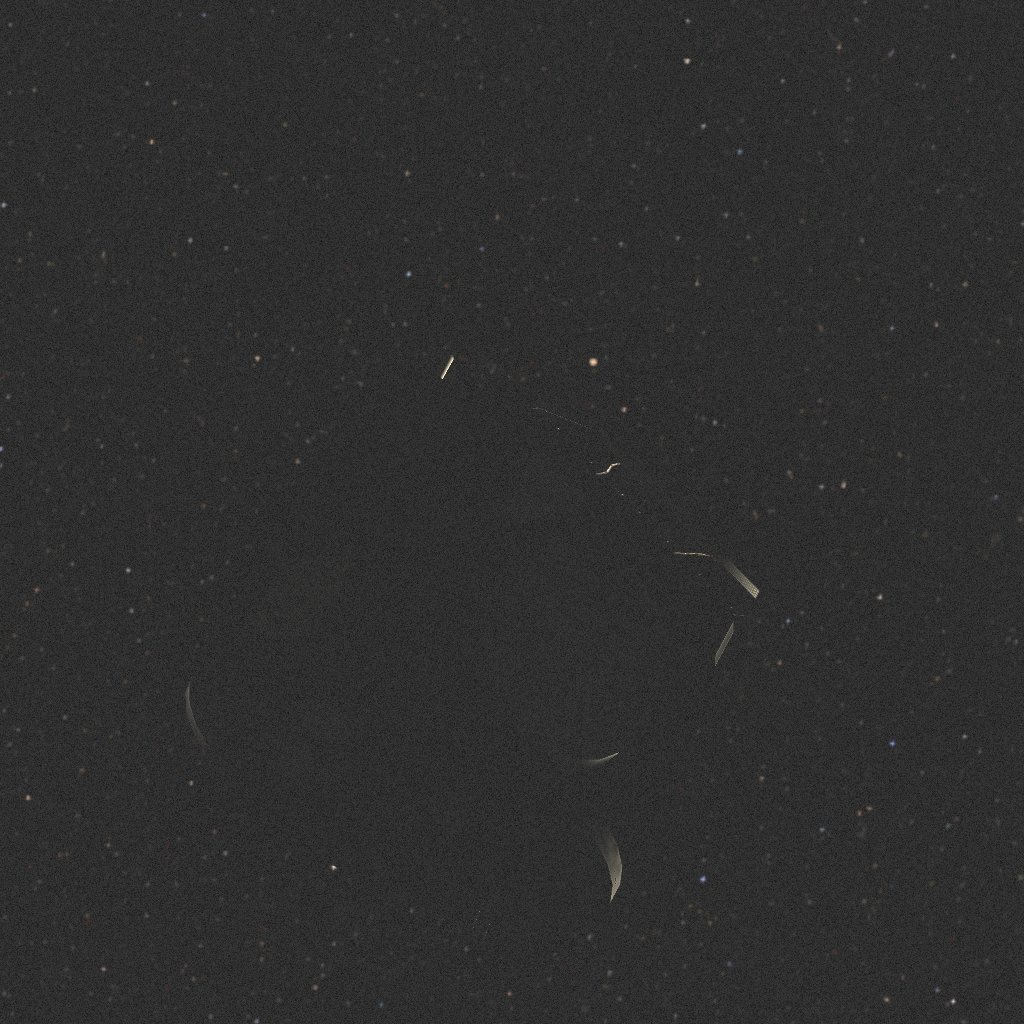proba_3_ocs: (186, 380, 767, 926)
